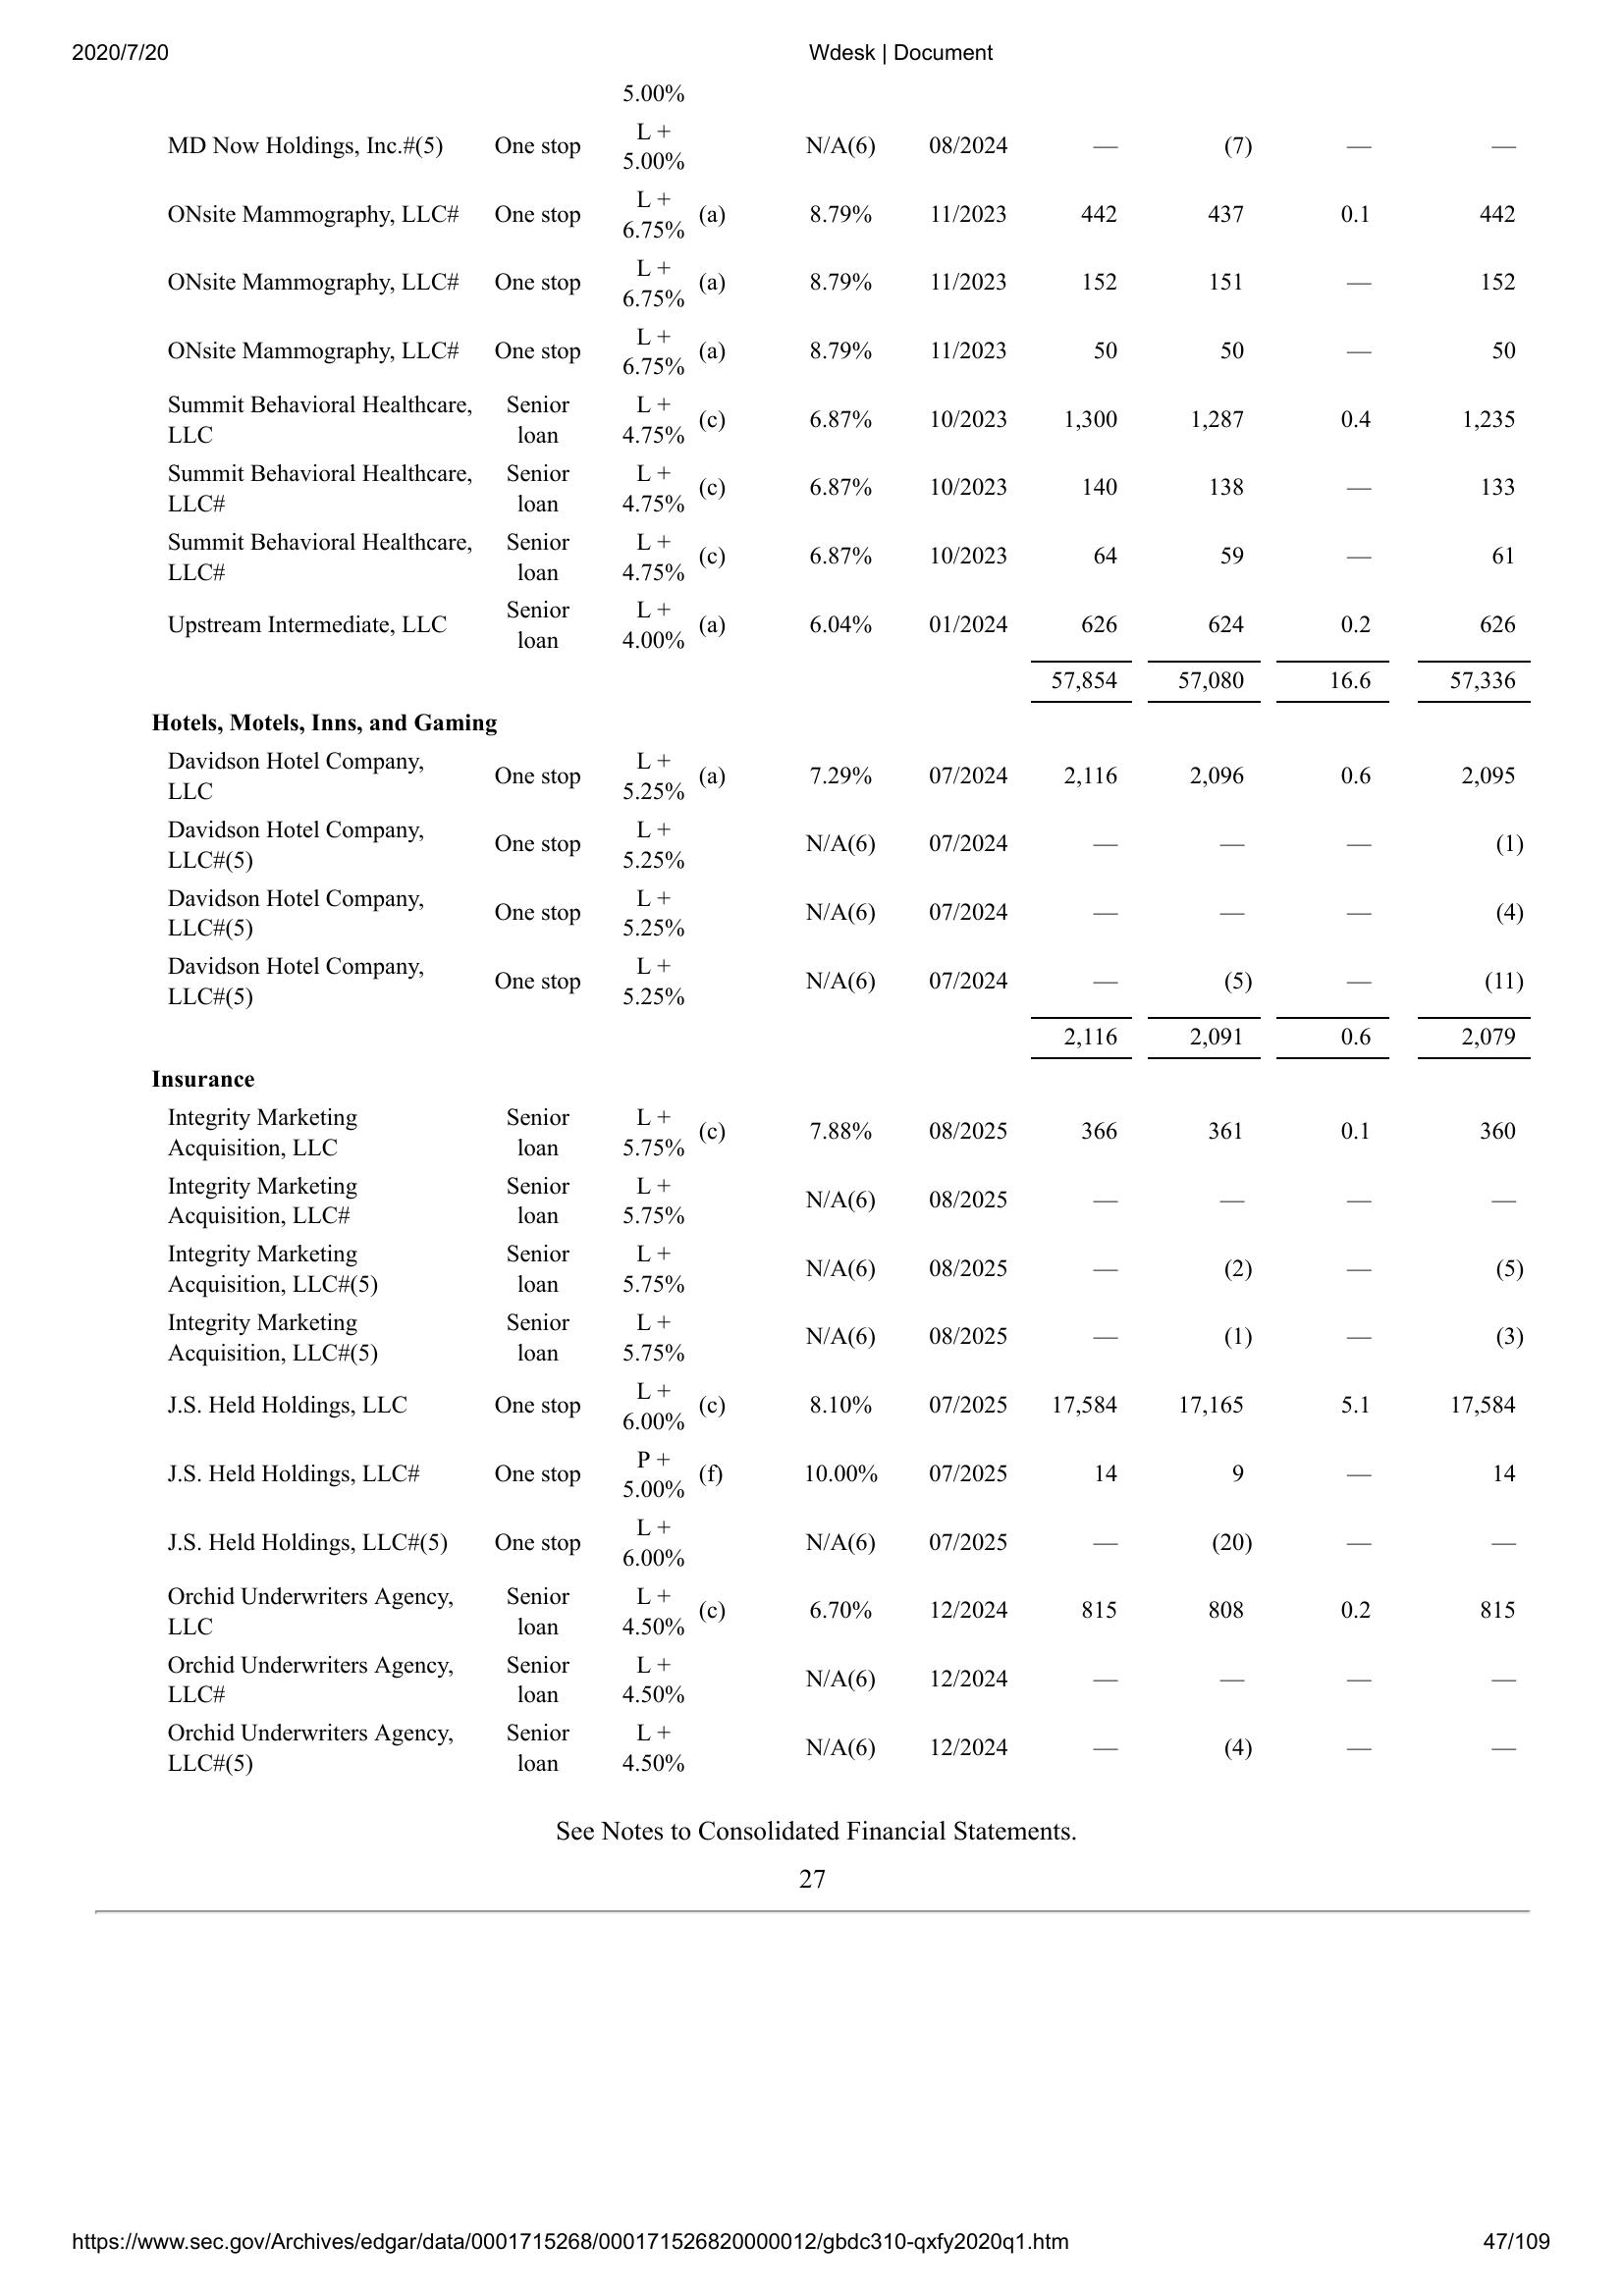table: (146, 81, 1539, 1782)
